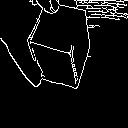cube: (24, 6, 96, 92)
